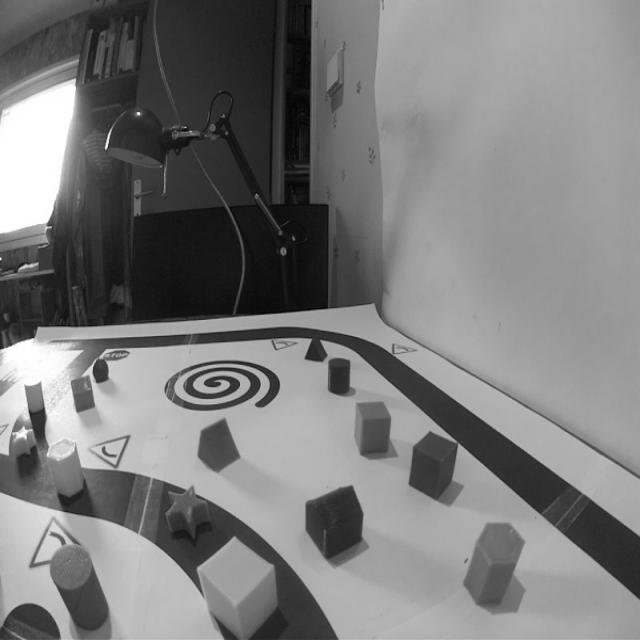ball: (90, 356, 110, 386)
cube: (192, 531, 284, 640), (408, 427, 462, 501), (352, 398, 397, 460)
cylinder: (45, 542, 114, 636), (325, 355, 354, 399), (22, 374, 46, 417)
hexagon: (461, 518, 530, 612), (46, 436, 90, 502)
home: (302, 479, 368, 564), (68, 374, 98, 412)
nest: (162, 354, 285, 418)
star: (162, 479, 213, 543), (9, 424, 42, 463)
triangle: (195, 416, 244, 476), (302, 332, 330, 366)
